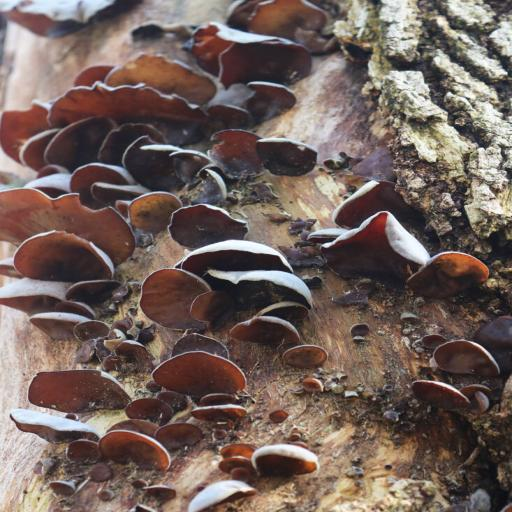Wood Ear Mushroom: (4, 57, 324, 194), (138, 192, 335, 371), (10, 356, 225, 481), (3, 188, 137, 350), (327, 178, 496, 300), (193, 0, 337, 94), (406, 315, 512, 413), (210, 440, 312, 477), (162, 480, 264, 512)
